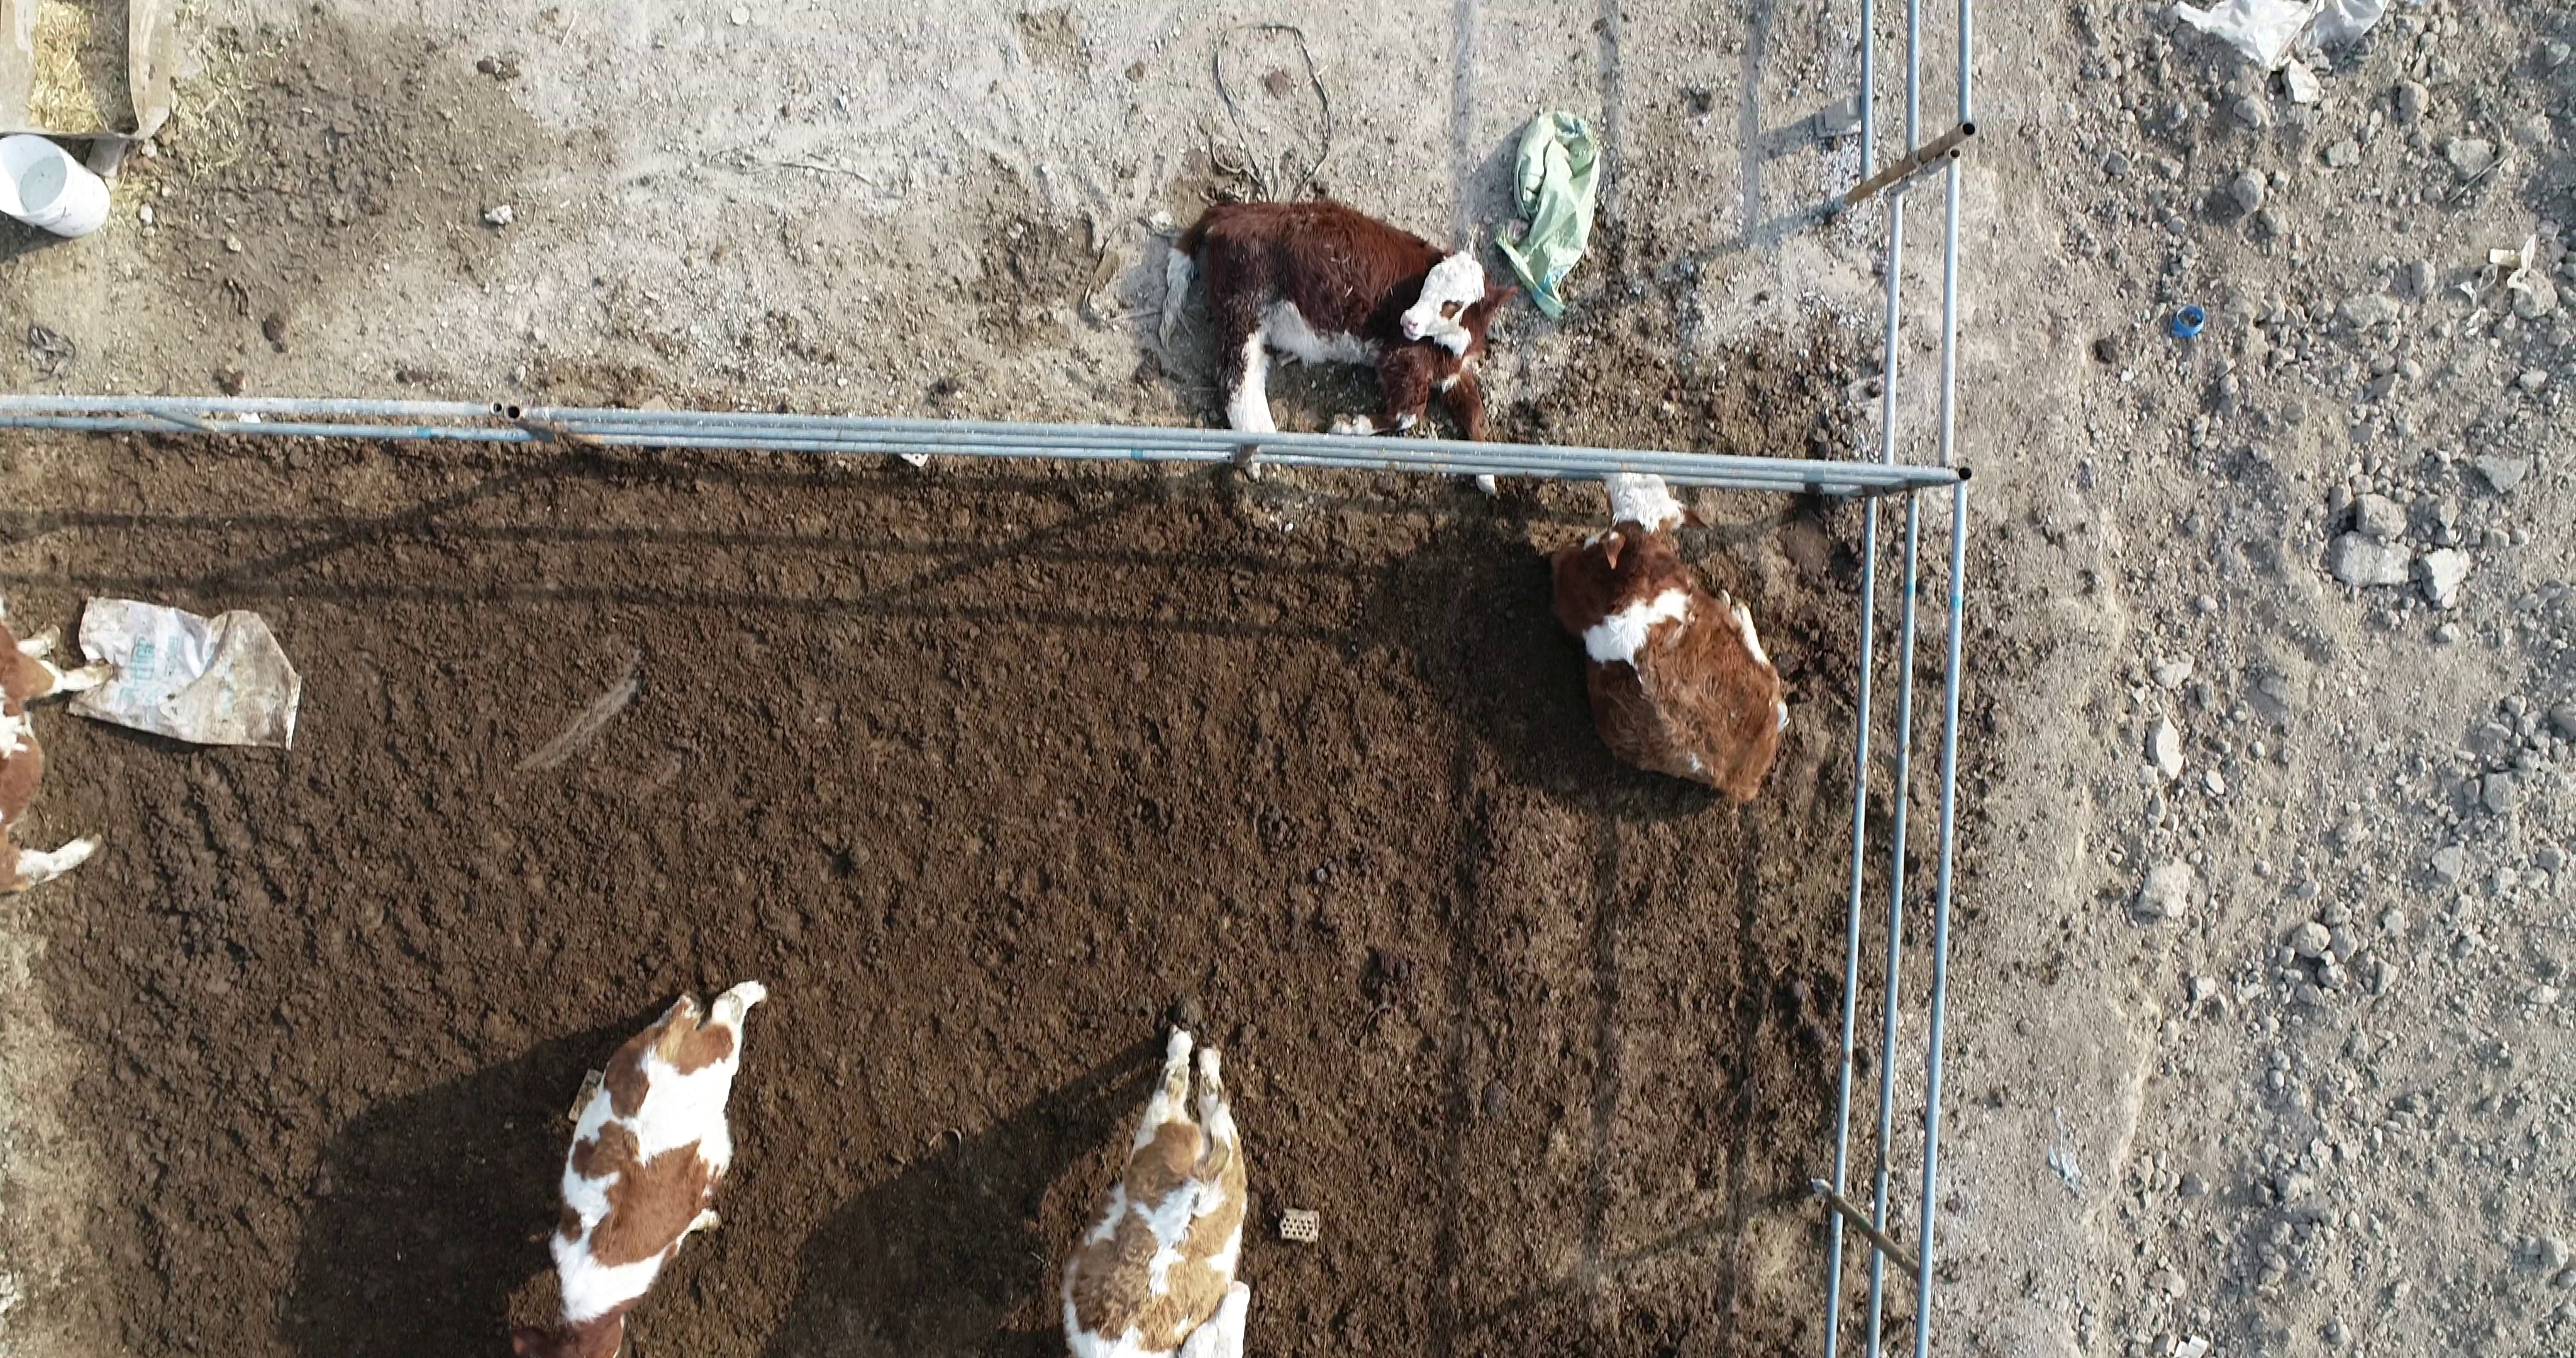cattle: (1540, 465, 1797, 809)
